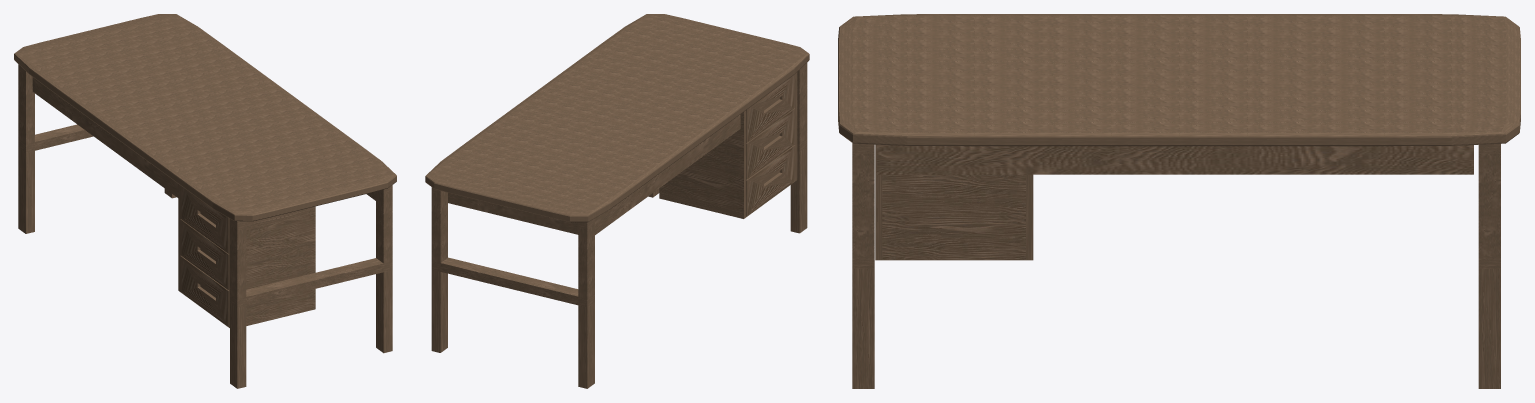
The model's file is desk-compressed.glb.
3 views of the same model, side by side, from view 1: azimuth 30°, elevation 25°; view 2: azimuth 150°, elevation 25°; view 3: azimuth 270°, elevation 25° (orthographic). The views are drawn at different scales.
Visible parts, largest first — view 1: Desk_Plane.005; view 2: Desk_Plane.005; view 3: Desk_Plane.005.
Boxes of the visible parts, x1,y1,x2,y2 form: Desk_Plane.005: [14, 14, 396, 388]; Desk_Plane.005: [425, 14, 809, 388]; Desk_Plane.005: [838, 14, 1520, 388].
Size of the model in its own units: 4.04 by 3.99 by 9.5.
1 material, 1 textured.
